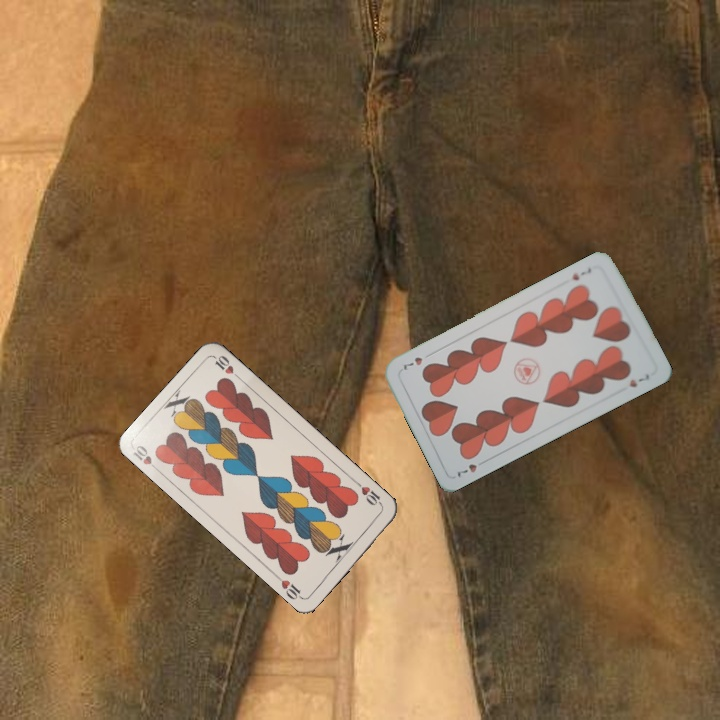H10: (128, 441, 163, 475), (352, 478, 385, 510)
H7: (453, 456, 489, 480), (568, 264, 594, 283)
